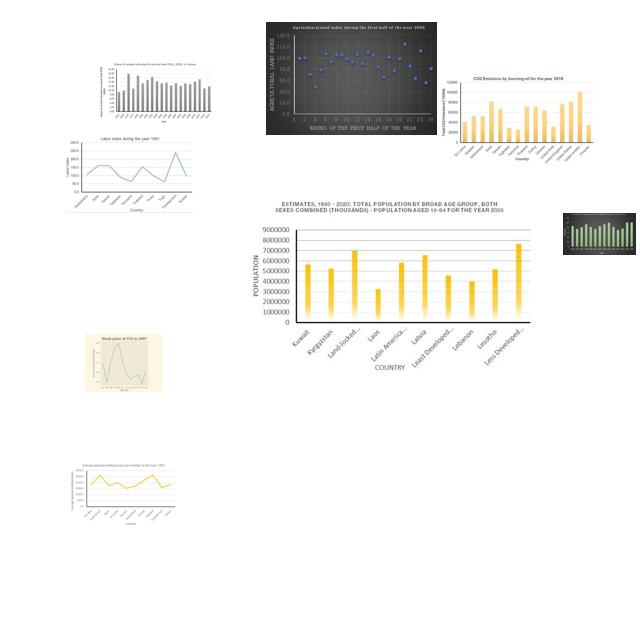Graph: (244, 197, 536, 372), (266, 22, 437, 135), (441, 75, 595, 166), (65, 135, 194, 213), (99, 60, 214, 125), (70, 462, 178, 526), (85, 334, 162, 392), (563, 213, 636, 255)
